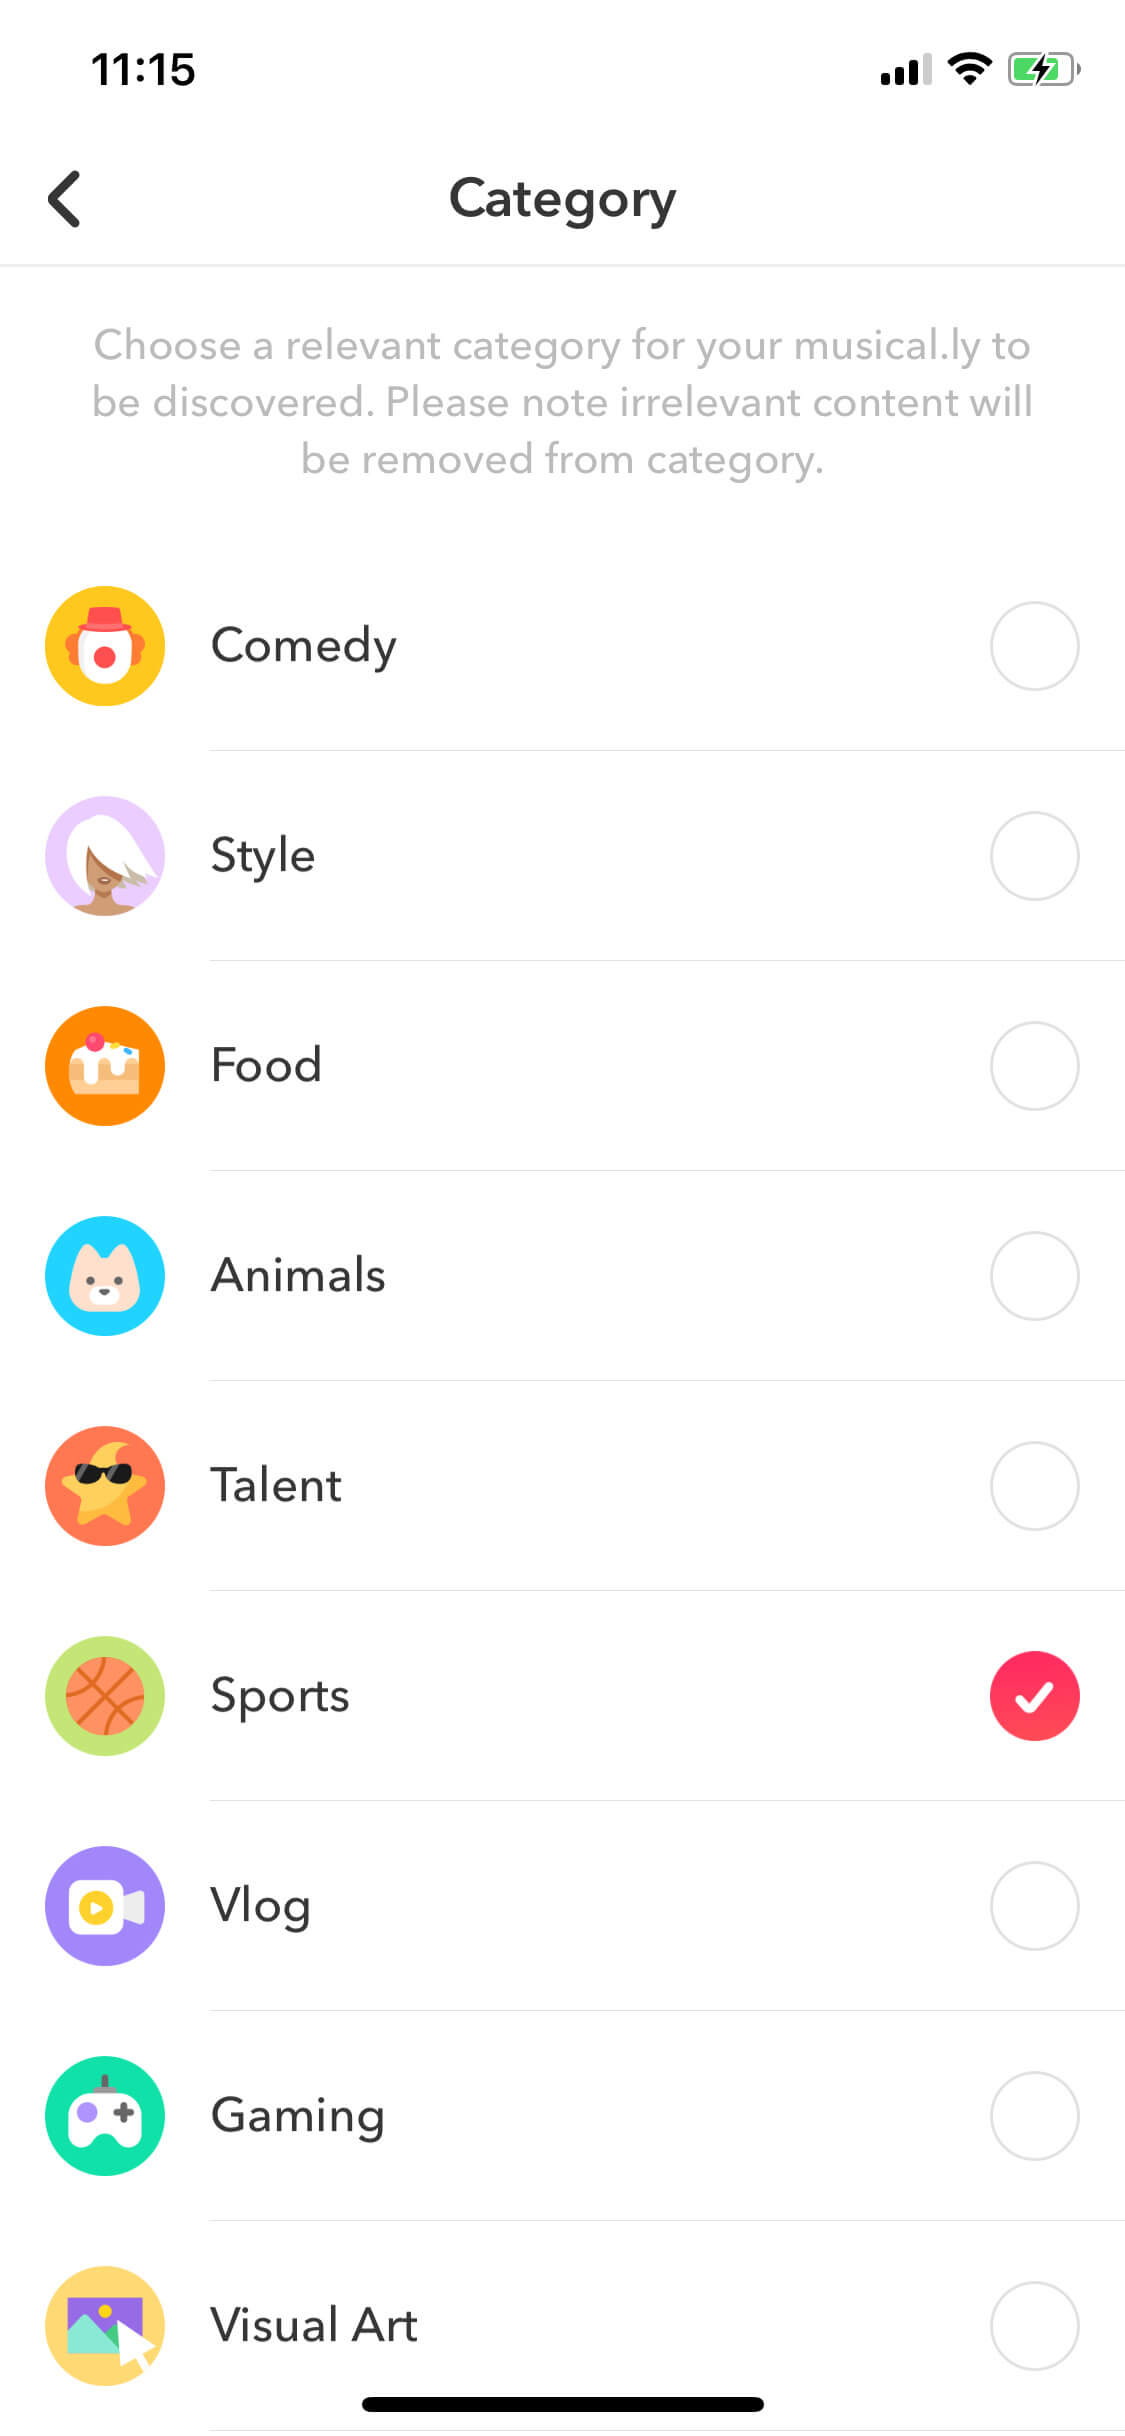Buttons: (2, 124, 143, 264)
Checkboxes: (2, 1384, 1125, 1582), (2, 1813, 1125, 1993), (12, 1616, 1125, 1788), (2, 1198, 1125, 1362), (2, 573, 1125, 733), (2, 996, 1125, 1150), (2, 2240, 1125, 2392), (2, 792, 1125, 945), (2, 2040, 1125, 2191)
